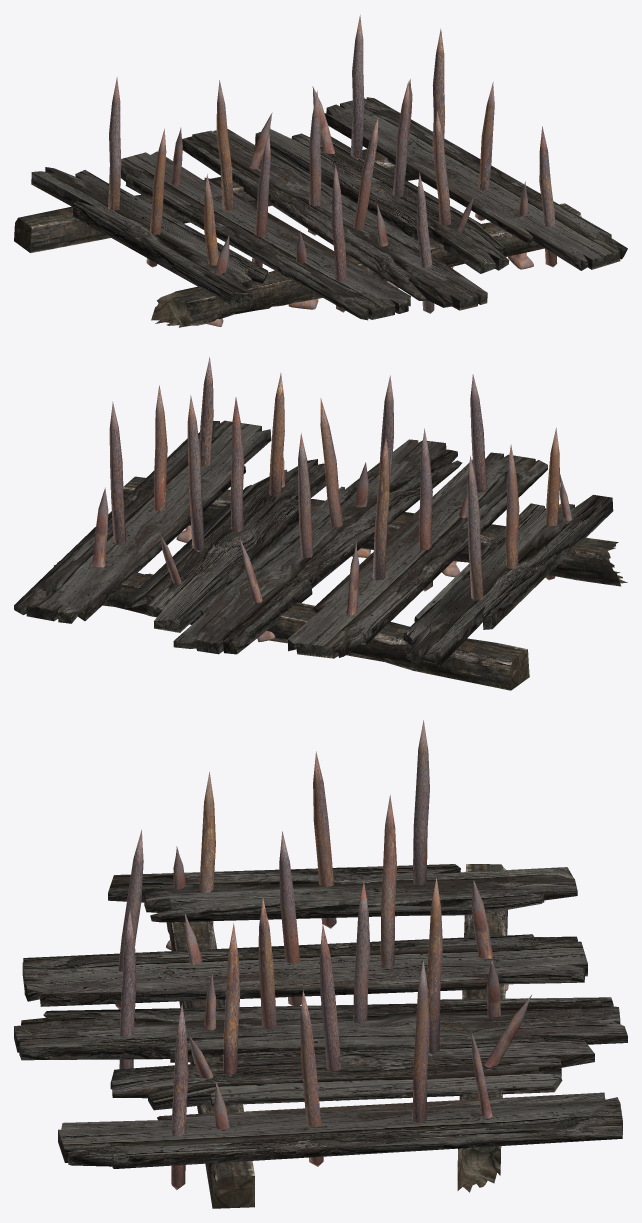
The model's file is Trap.FBX.
The picture shows the model from 3 angles, top to bottom: view 1: azimuth 30°, elevation 25°; view 2: azimuth 150°, elevation 25°; view 3: azimuth 270°, elevation 25°; orthographic projection. The views are drawn at different scales.
Visible parts, largest first — view 1: Trap; view 2: Trap; view 3: Trap.
Boxes of the visible parts, x1,y1,x2,y2 form: Trap: (14,14,627,327); Trap: (14,357,627,690); Trap: (14,720,627,1208).
Bounding box in the file's own units: 78.02 × 34.92 × 71.63.
